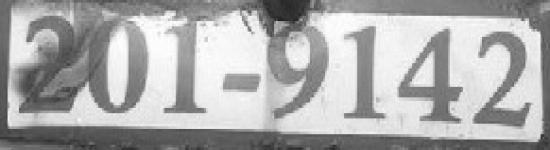-: (218, 66, 265, 97)
0: (87, 9, 154, 123)
1: (158, 9, 216, 124), (333, 21, 391, 129)
2: (16, 6, 86, 117), (471, 19, 535, 131)
4: (391, 21, 472, 128)
9: (266, 20, 335, 128)
